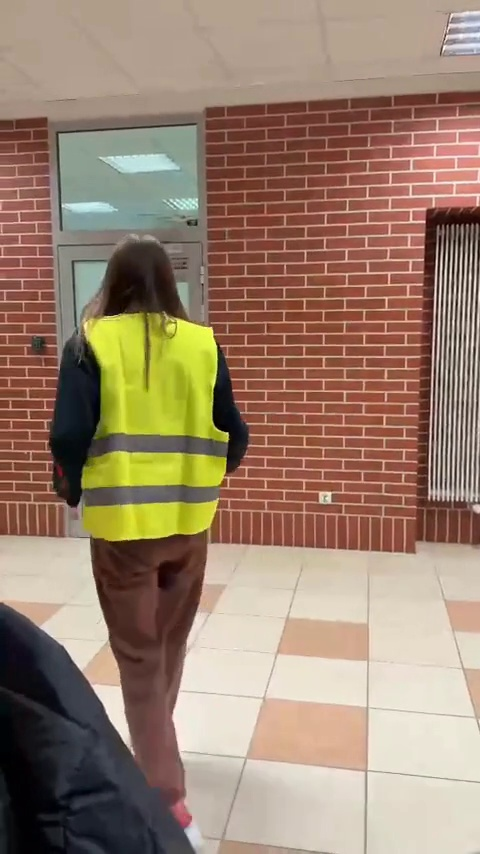vest: (52, 229, 259, 854)
